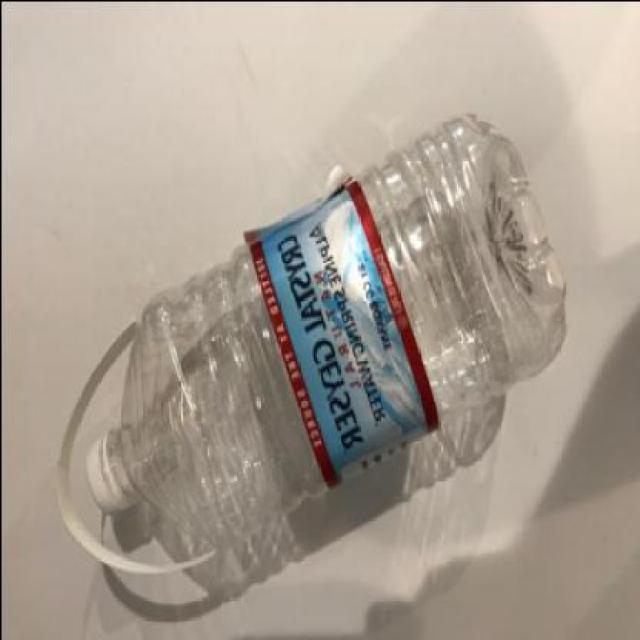PLASTIC: (52, 115, 565, 574), (240, 178, 437, 490), (81, 432, 136, 520)
